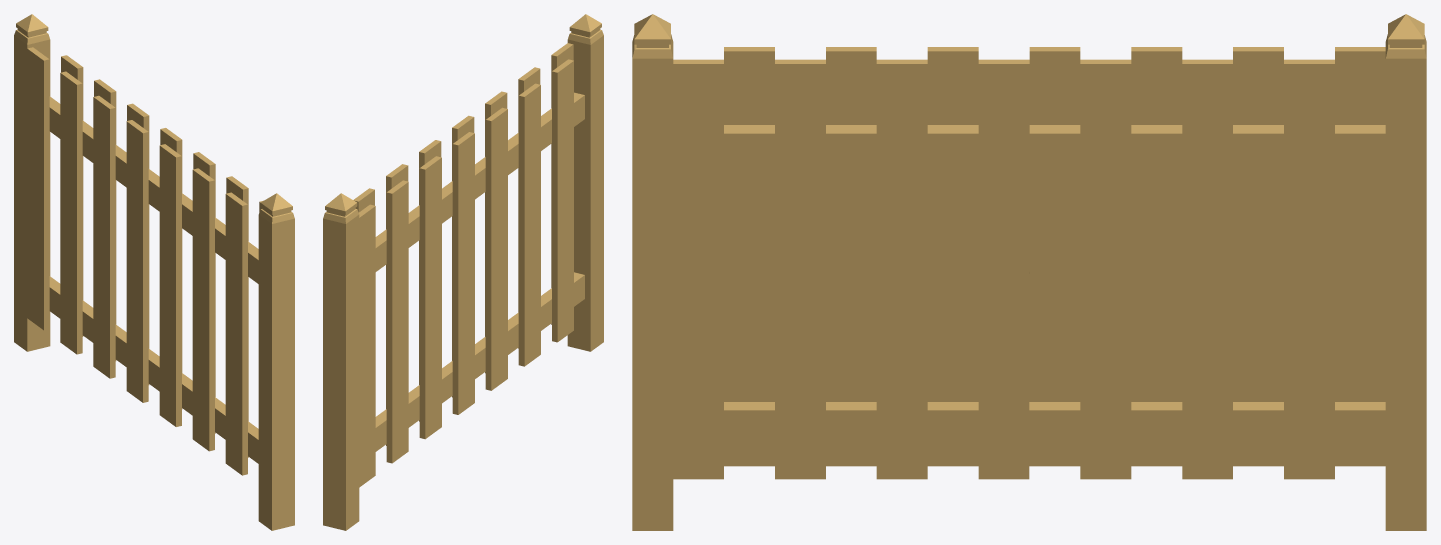
Rendered from Fence.fbx.
3 views of the same model, side by side, from view 1: azimuth 30°, elevation 25°; view 2: azimuth 150°, elevation 25°; view 3: azimuth 270°, elevation 25° (orthographic). The views are drawn at different scales.
Parts seen in each view (by area): view 1: Fence, Fence Post; view 2: Fence, Fence Post; view 3: Fence, Fence Post.
Boxes of the visible parts, x1,y1,x2,y2 form: Fence: (27, 47, 294, 530); Fence Post: (14, 14, 50, 351); Fence: (353, 14, 603, 487); Fence Post: (323, 193, 359, 530); Fence: (632, 14, 1385, 530); Fence Post: (1385, 14, 1426, 530).
Size of the model in its own units: 80 by 1102 by 1560.
